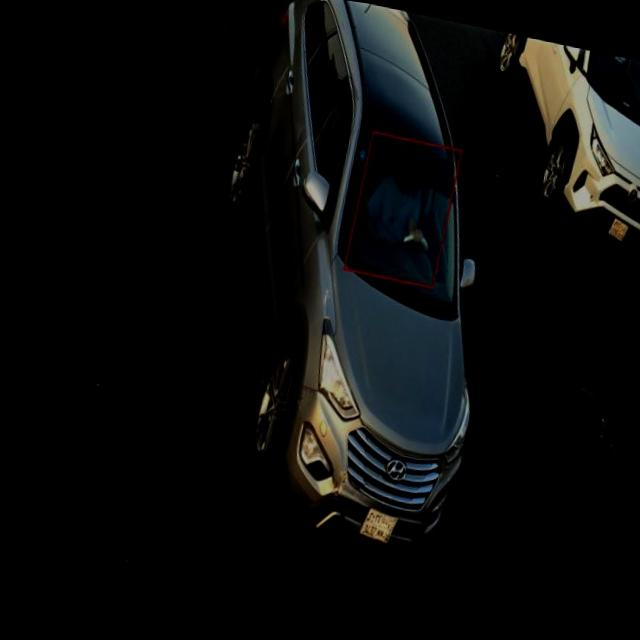person_without_seatbelt: (352, 147, 457, 278)
